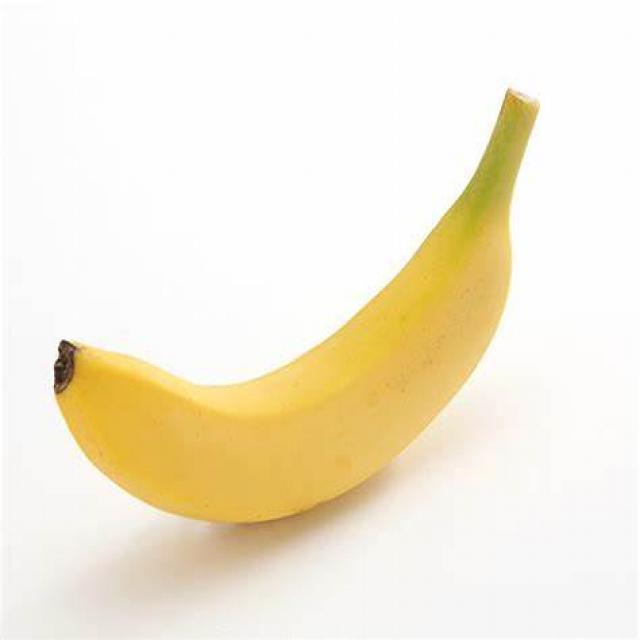Banana: (53, 86, 549, 532)
